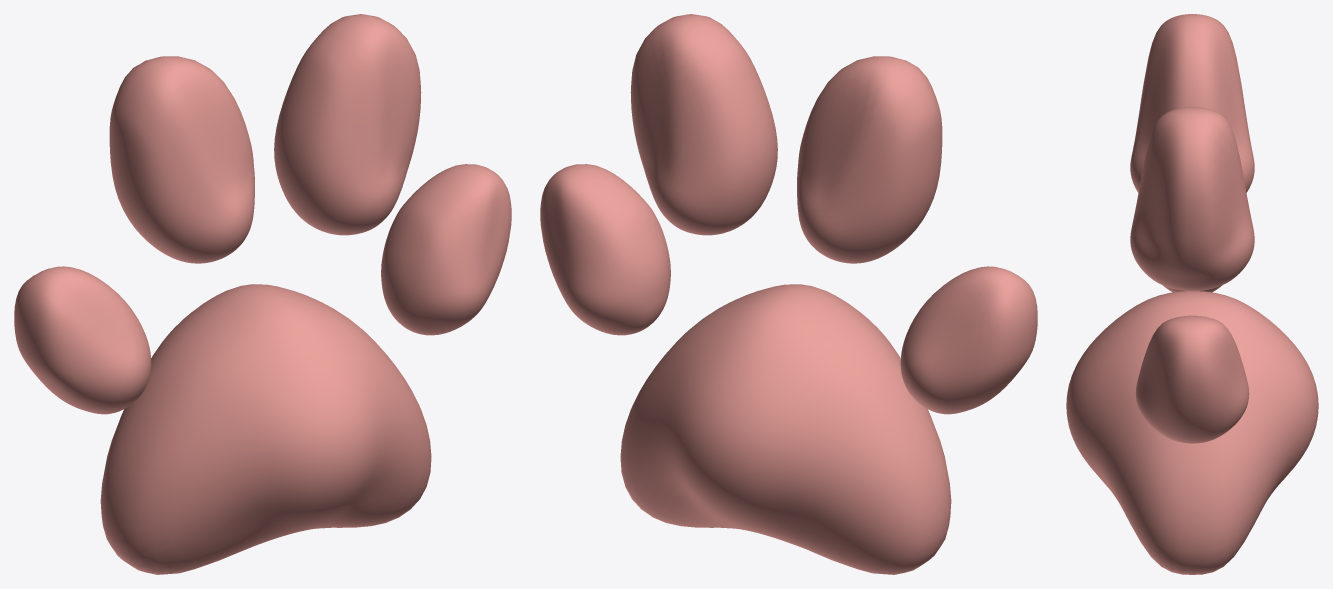
Rendered from CatPaw.fbx.
3 renders of one model, left to right at view 1: azimuth 30°, elevation 25°; view 2: azimuth 150°, elevation 25°; view 3: azimuth 270°, elevation 25°, orthographic. The views are drawn at different scales.
Parts seen in each view (by area): view 1: Paw; view 2: Paw; view 3: Paw.
Boxes of the visible parts, <box> form: Paw: <box>14,14,511,574</box>; Paw: <box>540,14,1037,574</box>; Paw: <box>1066,14,1318,574</box>.
Size of the model in its own units: 0.5 by 0.5 by 0.2479.
